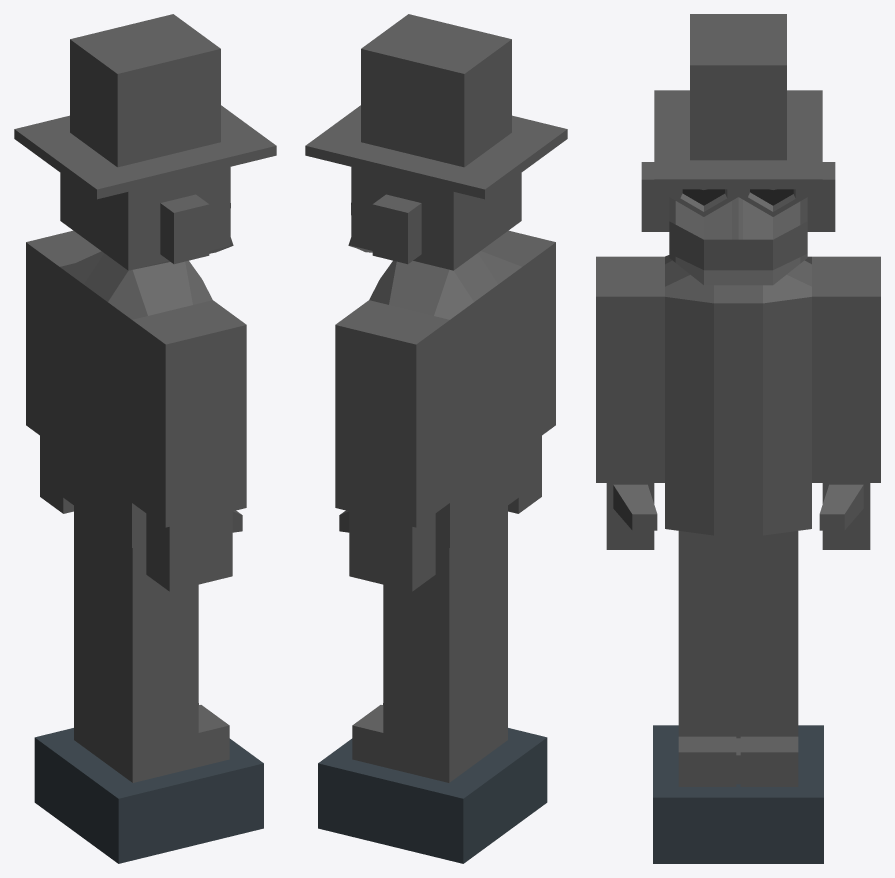
The model's file is Statue.fbx.
3 views of the same model, side by side, from view 1: azimuth 30°, elevation 25°; view 2: azimuth 150°, elevation 25°; view 3: azimuth 270°, elevation 25° (orthographic).
Parts seen in each view (by area): view 1: Cube; view 2: Cube; view 3: Cube.
Part boxes in pixels (left/top/right/bottom): Cube: left=14, top=14, right=276, bottom=863; Cube: left=305, top=14, right=567, bottom=863; Cube: left=596, top=14, right=880, bottom=863.
Bounding box in the file's own units: 247 × 1016 × 334.
